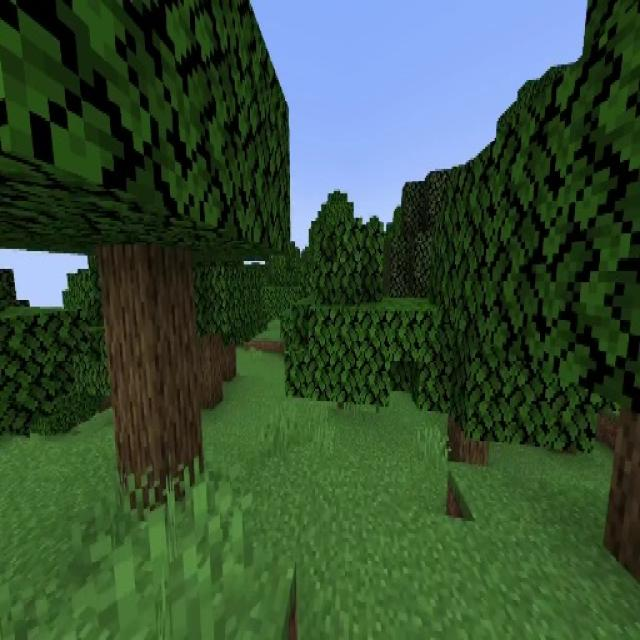oak: (0, 0, 289, 496), (401, 235, 542, 467), (161, 241, 258, 406), (192, 258, 266, 382)
oak_log: (101, 249, 200, 503), (449, 414, 487, 468), (200, 331, 220, 404), (217, 344, 237, 380)
